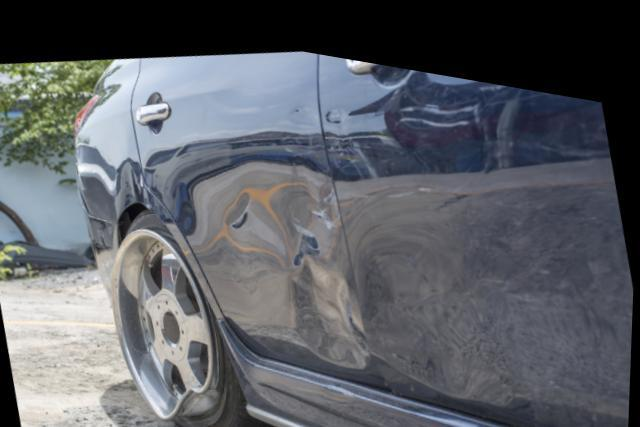dent: (225, 162, 365, 356), (358, 224, 485, 379)
tire flat: (114, 206, 273, 427)
